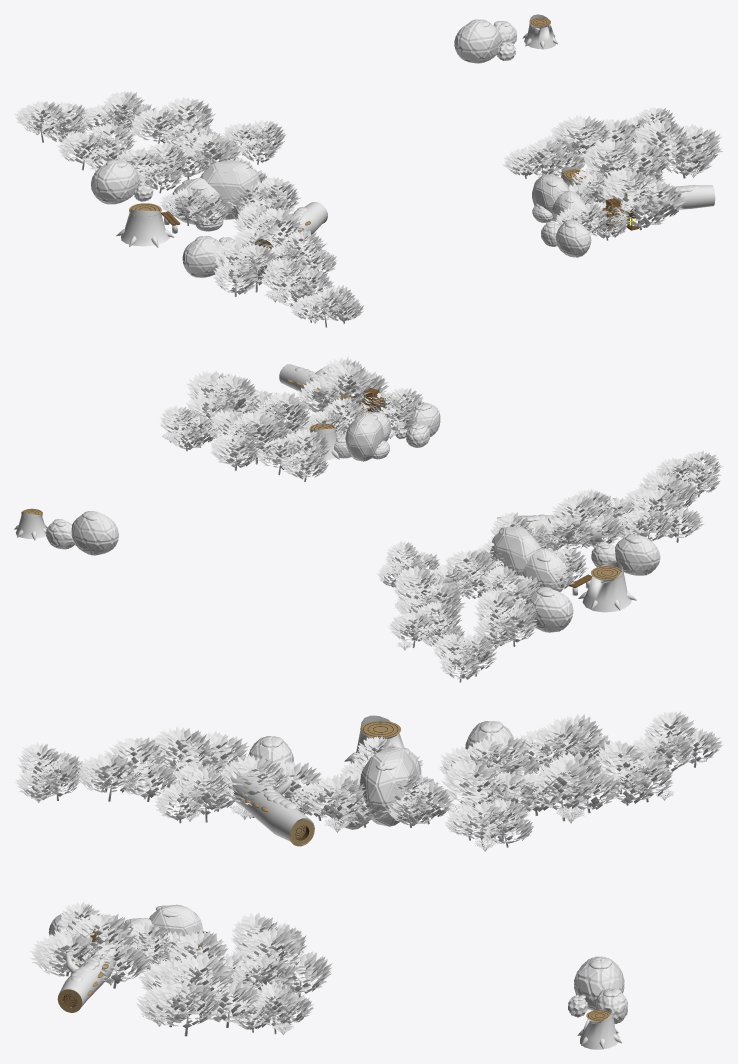
File: SM_DF_Explorer_0_1_Macro.fbx
The picture shows the model from 3 angles, top to bottom: view 1: azimuth 30°, elevation 25°; view 2: azimuth 150°, elevation 25°; view 3: azimuth 270°, elevation 25°; orthographic projection. The views are drawn at different scales.
Parts seen in each view (by area): view 1: SM_DF_Explorer_0_1_Macro; view 2: SM_DF_Explorer_0_1_Macro; view 3: SM_DF_Explorer_0_1_Macro.
Boxes of the visible parts, x1,y1,x2,y2 form: SM_DF_Explorer_0_1_Macro: (14, 14, 722, 327); SM_DF_Explorer_0_1_Macro: (14, 356, 723, 682); SM_DF_Explorer_0_1_Macro: (14, 711, 723, 1049).
Size of the model in its own units: 2876 by 2721 by 360.
